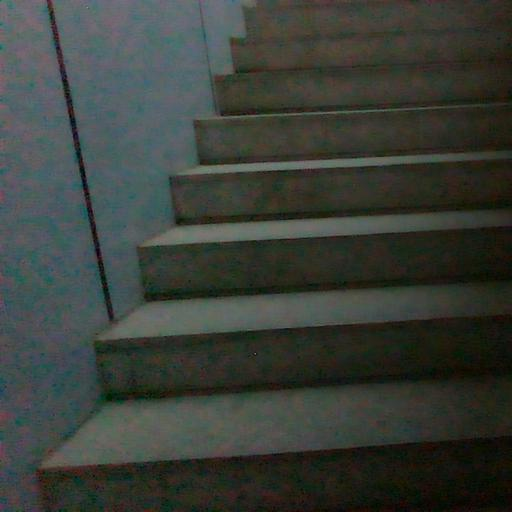stairs: (40, 0, 511, 511)
